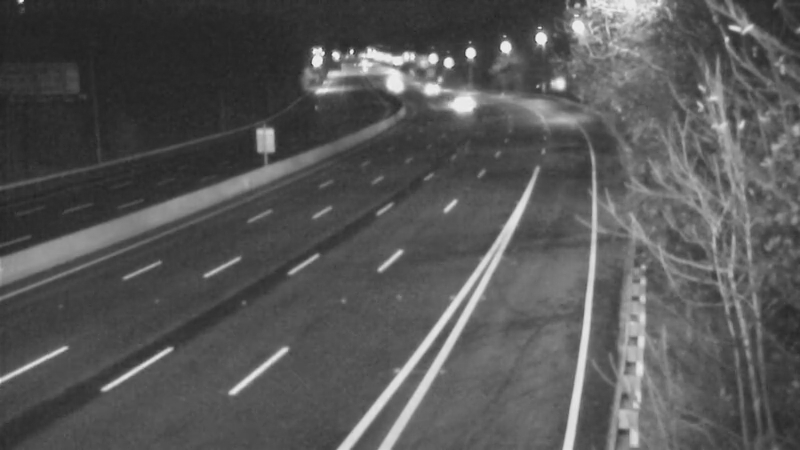vehicle: (370, 61, 420, 111), (405, 62, 455, 112), (434, 74, 484, 124)
